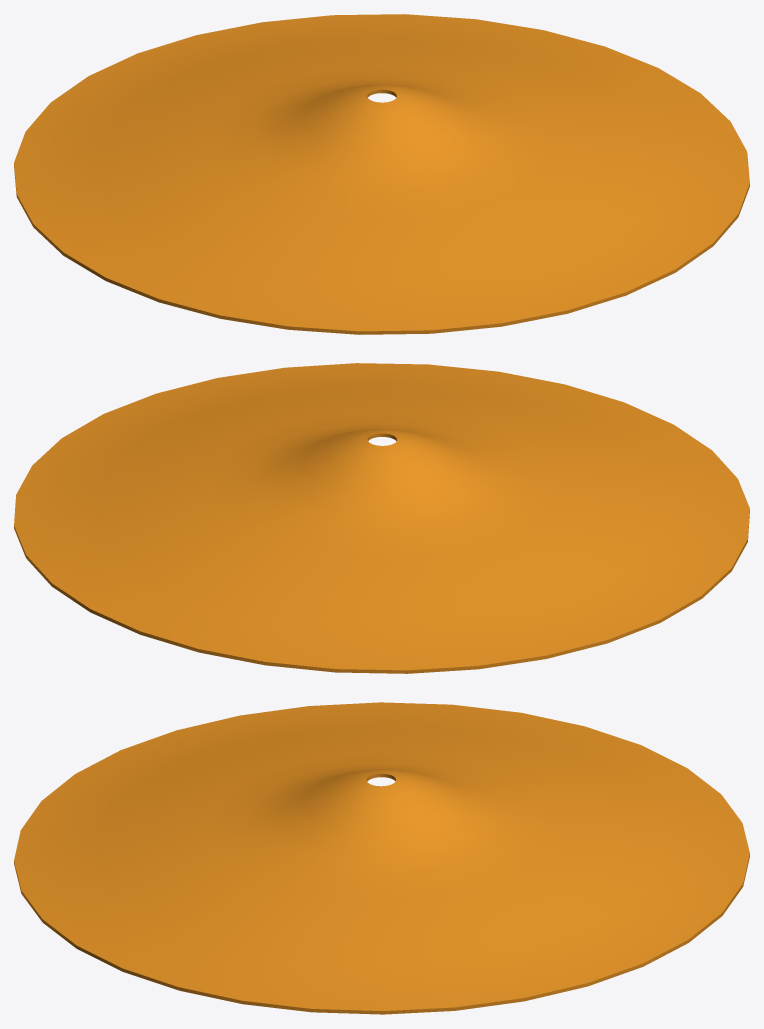
The model's file is crash.fbx.
3 views of the same model, one above another, from view 1: azimuth 30°, elevation 25°; view 2: azimuth 150°, elevation 25°; view 3: azimuth 270°, elevation 25° (orthographic).
Parts seen in each view (by area): view 1: Circle; view 2: Circle; view 3: Circle.
Part boxes in pixels (x1,y1,x2,y2): Circle: (14, 14, 749, 334); Circle: (14, 363, 749, 673); Circle: (14, 702, 749, 1014).
Size of the model in its own units: 42.83 by 5.36 by 42.83.
